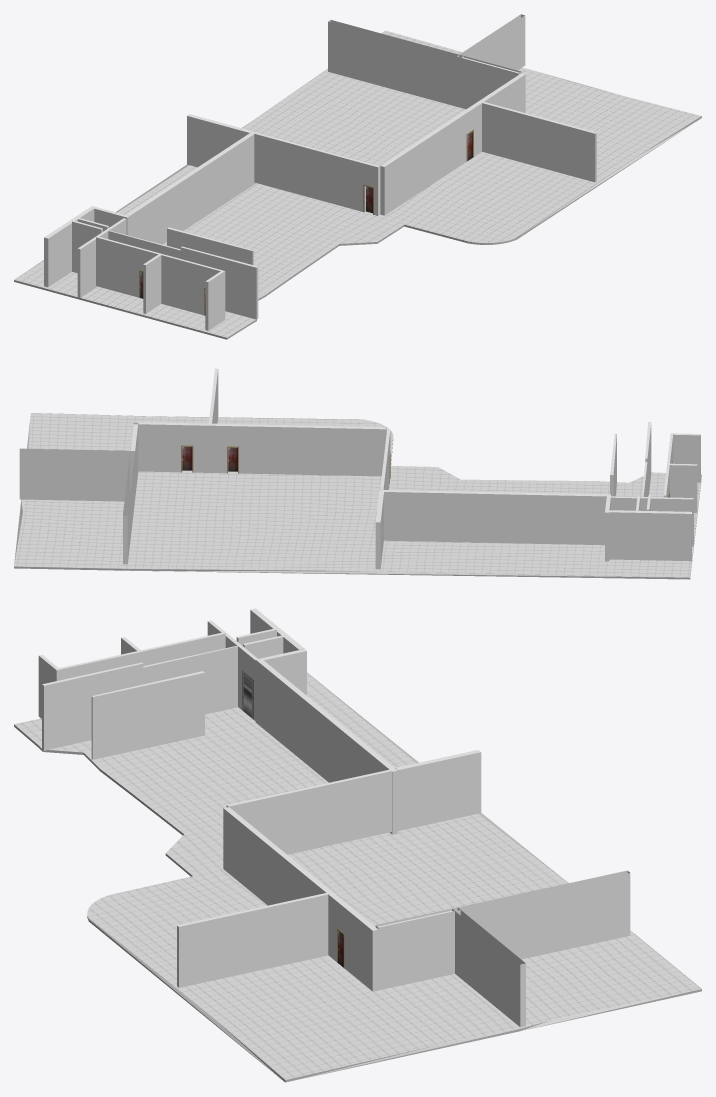
The model's file is floor1.fbx.
3 views of the same model, one above another, from view 1: azimuth 30°, elevation 25°; view 2: azimuth 150°, elevation 25°; view 3: azimuth 270°, elevation 25° (orthographic). The views are drawn at different scales.
Parts seen in each view (by area): view 1: 1D, object031, object036, object033, object025, object029, object027, object030, object032, object035, object038, object034 (+6 smaller); view 2: 1D, object033, object036, object032, object038, object024, object028, object026, object031, object035, object030, object025 (+2 smaller); view 3: 1D, object031, object029, object025, object033, object030, object036, object023, object035, object032, object027, object024 (+2 smaller).
Boxes of the visible parts, x1,y1,x2,y2 form: 1D: (14, 30, 701, 339); object031: (328, 20, 521, 109); object036: (125, 131, 255, 244); object033: (380, 73, 525, 215); object025: (254, 132, 379, 215); object029: (482, 102, 596, 182); object027: (96, 236, 221, 315); object030: (108, 230, 258, 319); object032: (456, 14, 525, 107); object035: (187, 114, 252, 167); object038: (44, 207, 94, 287); object034: (460, 57, 519, 104); 1D: (14, 413, 701, 579); object033: (133, 422, 386, 476); object036: (379, 489, 606, 545); object032: (19, 448, 134, 501); object038: (609, 510, 691, 561); object024: (611, 496, 693, 546); object028: (669, 463, 697, 512); object026: (670, 433, 700, 482); object031: (123, 422, 138, 564); object035: (375, 491, 383, 569); object030: (642, 422, 651, 496); object025: (380, 429, 390, 489); 1D: (14, 672, 701, 1082); object031: (375, 870, 630, 990); object029: (177, 893, 328, 987); object025: (226, 769, 391, 854); object033: (223, 807, 378, 991); object030: (42, 645, 237, 750); object036: (258, 660, 397, 834); object023: (91, 671, 204, 759); object035: (395, 750, 481, 830); object032: (452, 907, 525, 1027); object027: (59, 632, 225, 680); object024: (207, 620, 257, 720).
Size of the model in its own units: 56.54 by 4.27 by 39.41.
